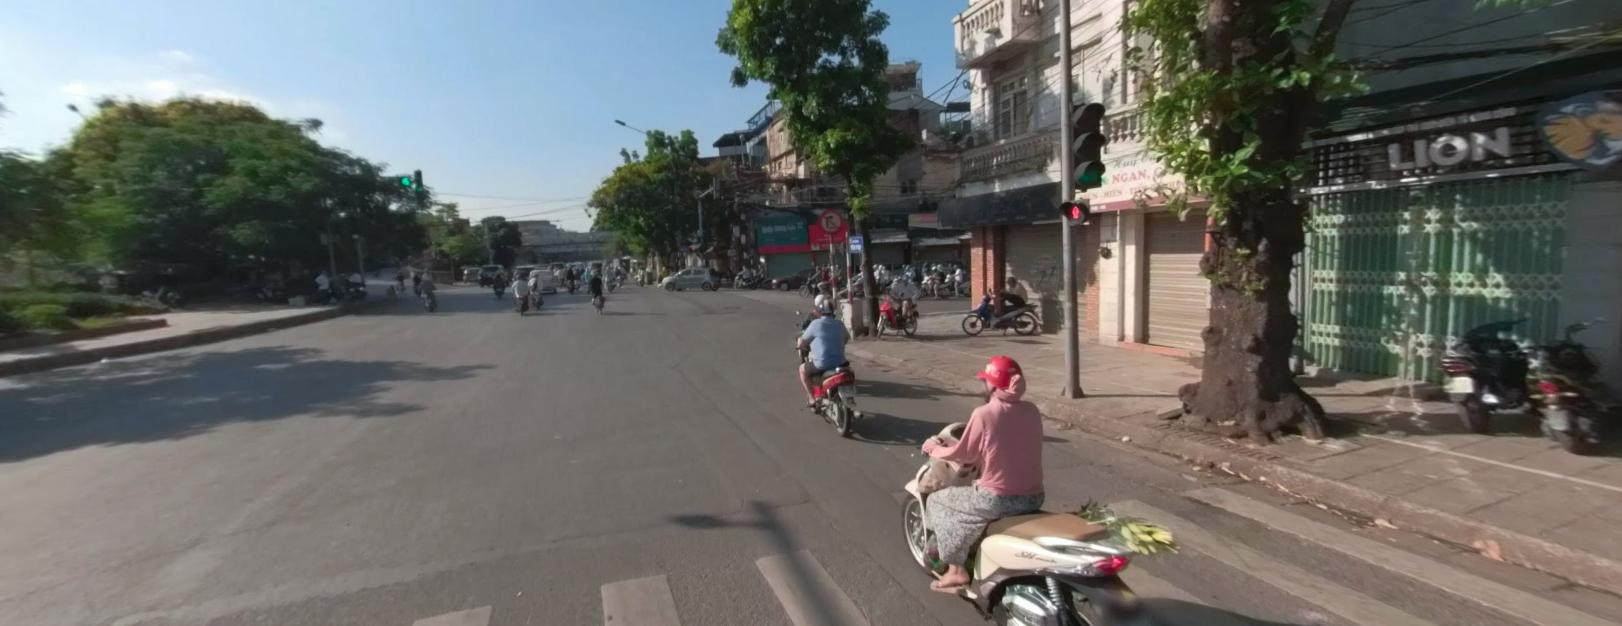Cam re: (819, 208, 842, 232)
